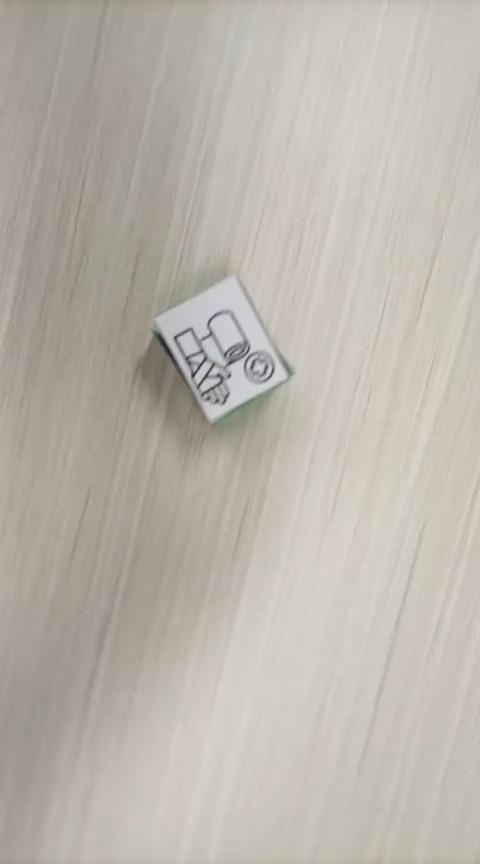Bandages: (151, 272, 291, 425)
